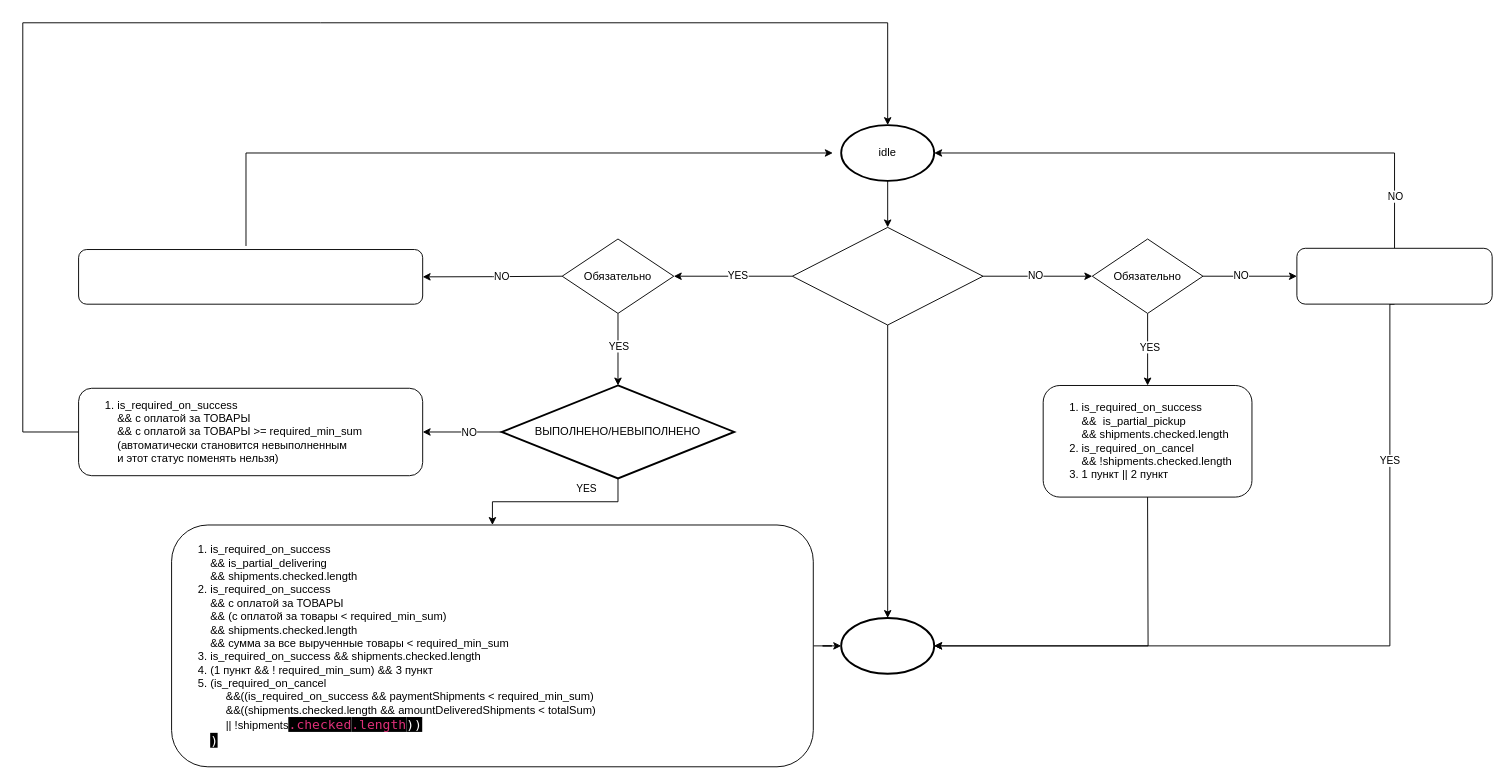
Some shapes in this 1508 by 783 pixel diagram are drawn without their labels. The box of each missing label's shape, as (x1, y1, x2, y2) in pixels:
! is_required_on_success && ! is_required_on_cancel: (78, 249, 423, 304)
!1пункт || !2пункт || 3пункт: (1296, 247, 1492, 304)
completed: (840, 617, 935, 674)
isDelivery: (791, 226, 983, 325)
